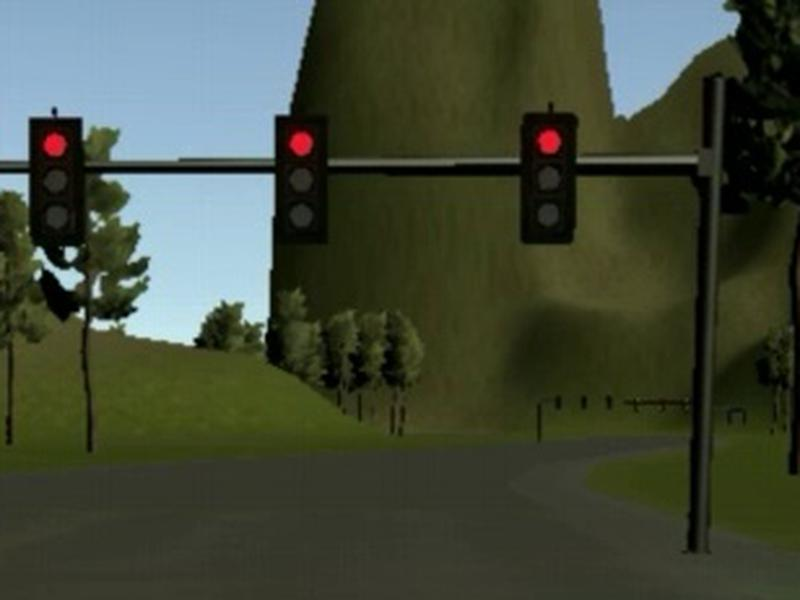Red: (519, 114, 577, 246), (275, 115, 328, 245), (30, 117, 83, 245)
